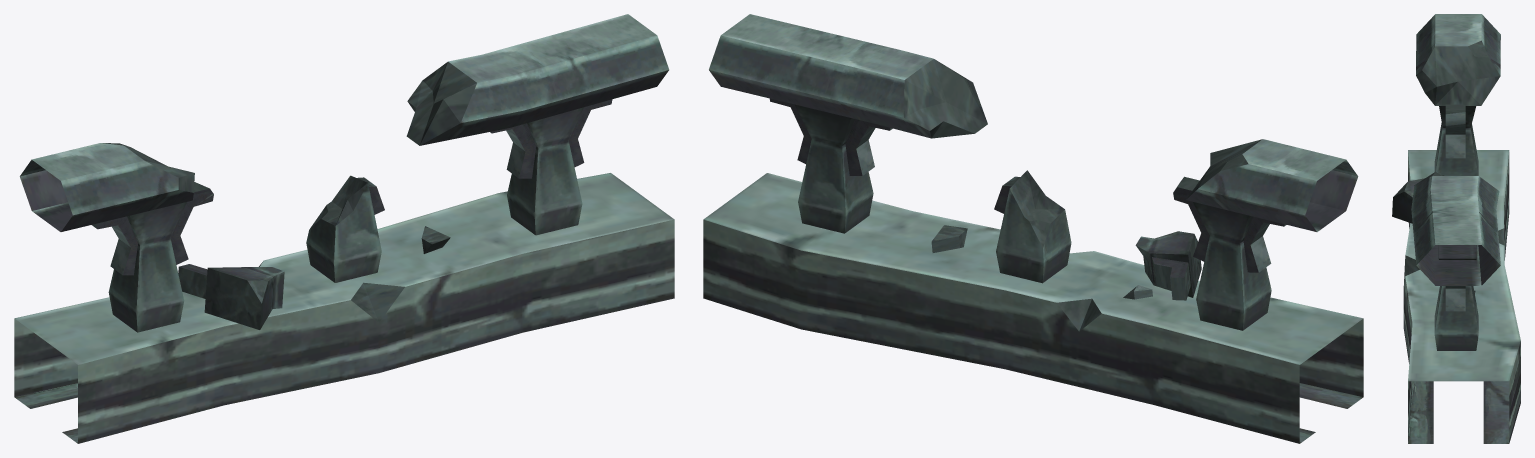
File: crypt_railing_straight_02.fbx
3 views of the same model, side by side, from view 1: azimuth 30°, elevation 25°; view 2: azimuth 150°, elevation 25°; view 3: azimuth 270°, elevation 25° (orthographic). The views are drawn at different scales.
Visible parts, largest first — view 1: crypt_railing_straight_02-0; view 2: crypt_railing_straight_02-0; view 3: crypt_railing_straight_02-0.
Part boxes in pixels (left/top/right/bottom): crypt_railing_straight_02-0: left=14, top=14, right=674, bottom=443; crypt_railing_straight_02-0: left=703, top=14, right=1363, bottom=443; crypt_railing_straight_02-0: left=1392, top=14, right=1520, bottom=443.
Bounding box in the file's own units: 4 × 1.6 × 0.9423.
